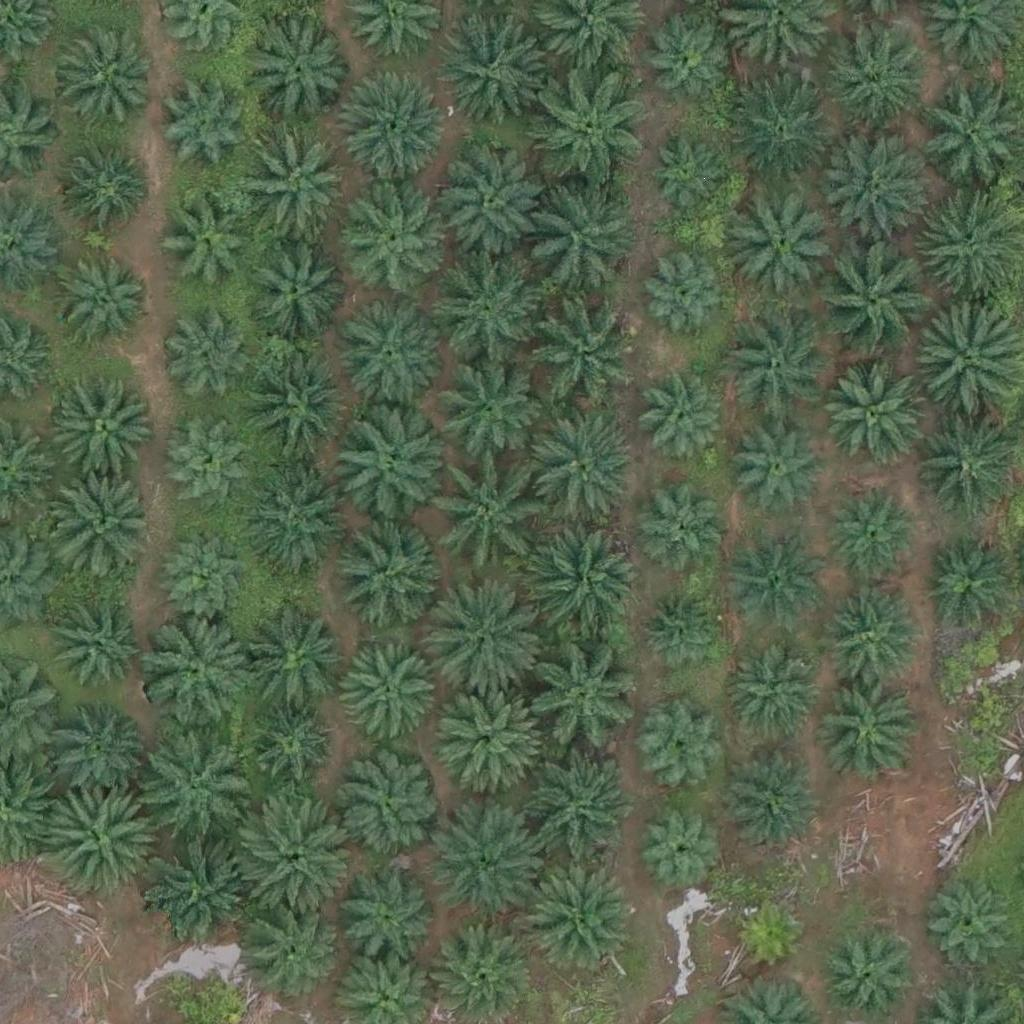Kelapa_Sawit: (432, 587, 545, 701), (438, 10, 551, 124), (530, 409, 643, 522), (526, 528, 639, 641), (519, 644, 632, 757), (326, 413, 439, 526), (134, 718, 247, 831), (147, 835, 260, 948), (41, 782, 154, 895), (910, 192, 1023, 305), (431, 146, 544, 259), (337, 72, 450, 185), (243, 134, 356, 247), (518, 759, 630, 873), (522, 863, 634, 977), (137, 616, 249, 730), (827, 358, 939, 472), (532, 70, 644, 184), (241, 348, 353, 462), (432, 809, 544, 922), (432, 682, 544, 795), (439, 457, 551, 570), (324, 518, 436, 631), (242, 466, 354, 579), (239, 606, 351, 719), (239, 794, 351, 907), (50, 469, 162, 582), (818, 237, 930, 350), (814, 128, 926, 241), (727, 69, 839, 182), (728, 188, 840, 301), (717, 309, 829, 422), (523, 180, 635, 293), (528, 290, 640, 403), (430, 345, 542, 458), (429, 254, 541, 367), (336, 301, 448, 414), (45, 370, 157, 483), (822, 590, 922, 691), (818, 682, 918, 783), (819, 922, 919, 1023), (723, 638, 823, 739), (724, 747, 824, 848), (338, 644, 438, 745), (338, 756, 438, 857), (340, 865, 440, 966), (235, 904, 335, 1005), (48, 701, 148, 802), (52, 588, 152, 689), (829, 33, 929, 134), (344, 196, 444, 297), (240, 240, 340, 341), (251, 23, 351, 124), (50, 248, 150, 349), (730, 412, 830, 512), (725, 541, 825, 641), (51, 26, 151, 126), (727, 888, 815, 976), (923, 879, 1011, 967), (828, 486, 916, 574), (636, 804, 724, 892), (640, 696, 728, 784), (243, 702, 331, 790), (160, 532, 248, 620), (163, 197, 251, 285), (168, 317, 256, 405), (56, 142, 144, 230), (924, 542, 1011, 630), (638, 588, 725, 676), (638, 483, 725, 571), (641, 371, 728, 459), (641, 247, 728, 335), (652, 14, 739, 102), (161, 87, 248, 175), (163, 422, 250, 510), (650, 137, 725, 213)
